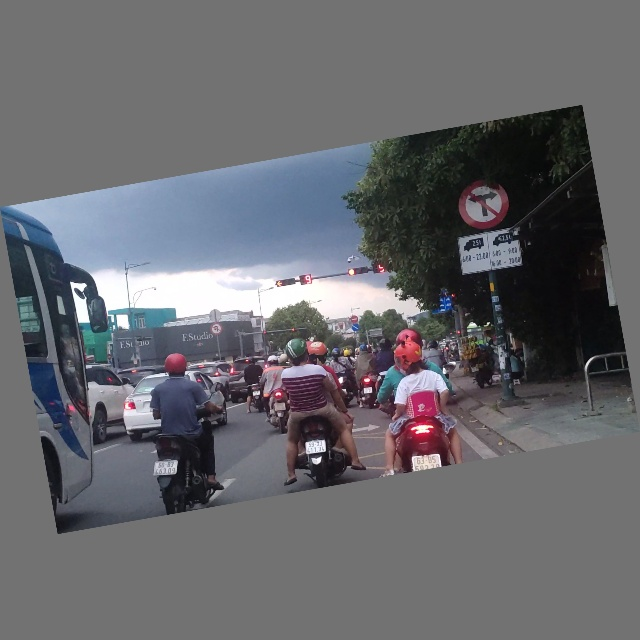P.102: (349, 315, 359, 325)
P.124a*: (209, 323, 223, 337)
P.137: (454, 176, 513, 234)
R.302a: (350, 323, 360, 333)
S.505a*Xe tai: (455, 226, 524, 277)
